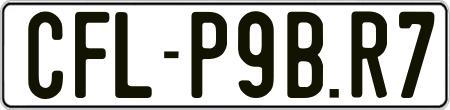7: (398, 10, 434, 98)
9: (235, 11, 275, 102)
B: (284, 9, 322, 100)
C: (25, 12, 63, 101)
F: (75, 11, 114, 103)
L: (114, 12, 154, 102)
P: (190, 9, 227, 99)
R: (351, 8, 392, 101)
